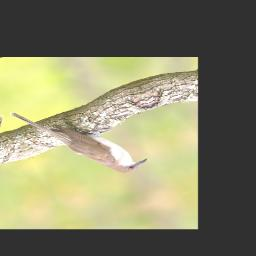Cuckoo: (9, 82, 152, 196)
